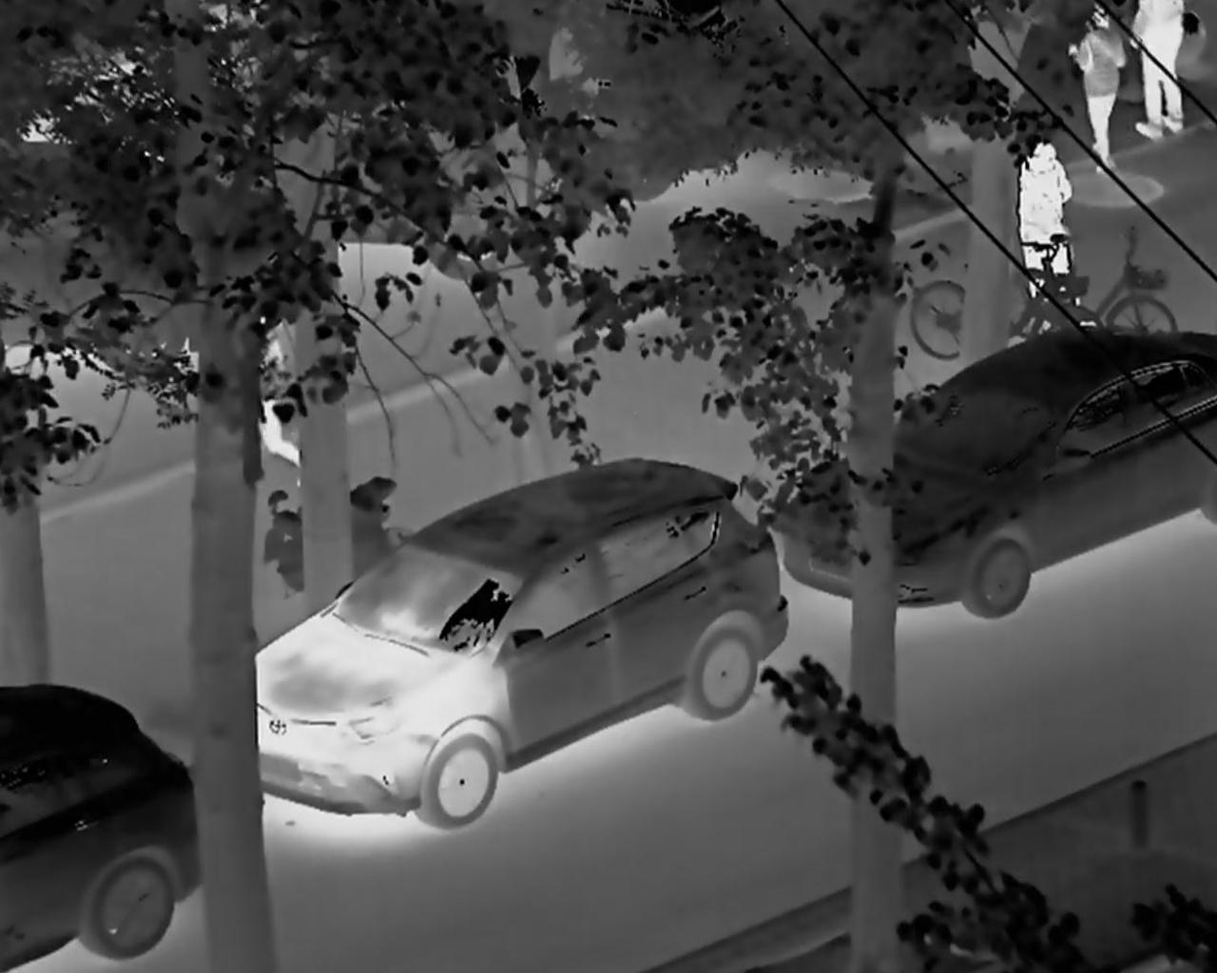person: (1017, 137, 1082, 303), (1072, 9, 1127, 178), (243, 317, 302, 474), (1132, 2, 1191, 147)
